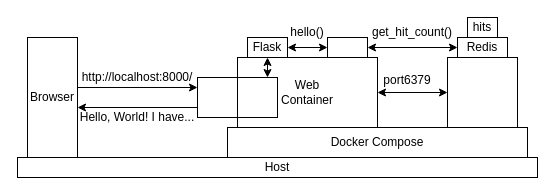
Image size: 555x195. Some labels were removed from this diagram. The centre of each missing label's shape, as x and y in pixels:
app.py: the point at 347,47
port 5000: the point at 257,97
port 8000: the point at 217,97
Redis Container: the point at 482,92
